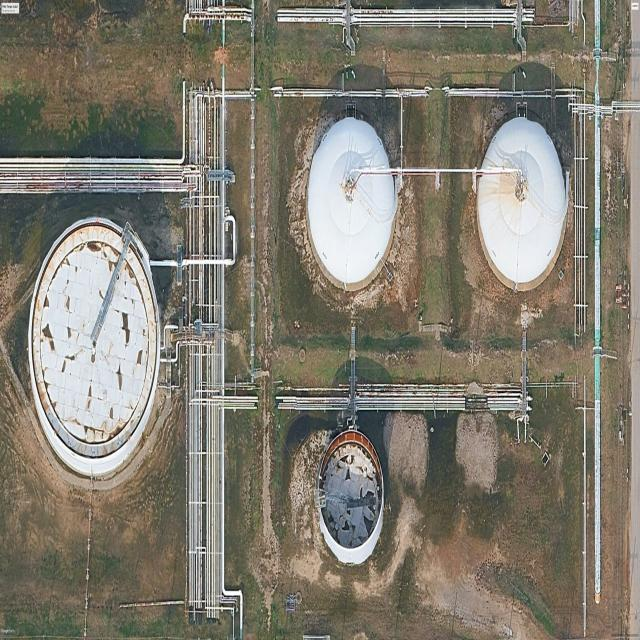Oil Rafinery: (29, 218, 160, 475), (477, 118, 569, 290), (306, 118, 397, 289), (315, 429, 384, 564)
